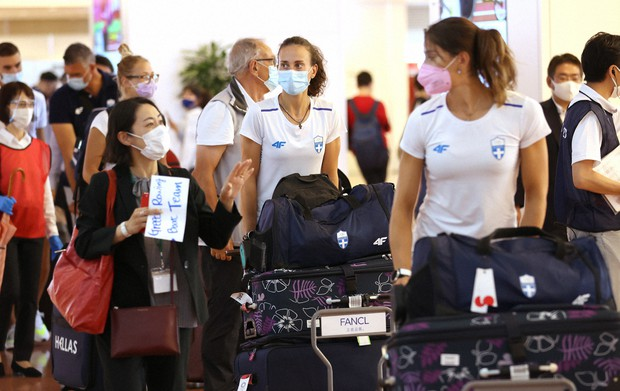with_mask: (416, 29, 470, 93), (119, 106, 168, 159), (243, 36, 277, 94), (282, 44, 307, 95), (552, 54, 580, 99), (127, 60, 154, 97), (10, 86, 33, 126), (69, 52, 90, 93), (2, 50, 21, 85), (182, 88, 197, 107)
